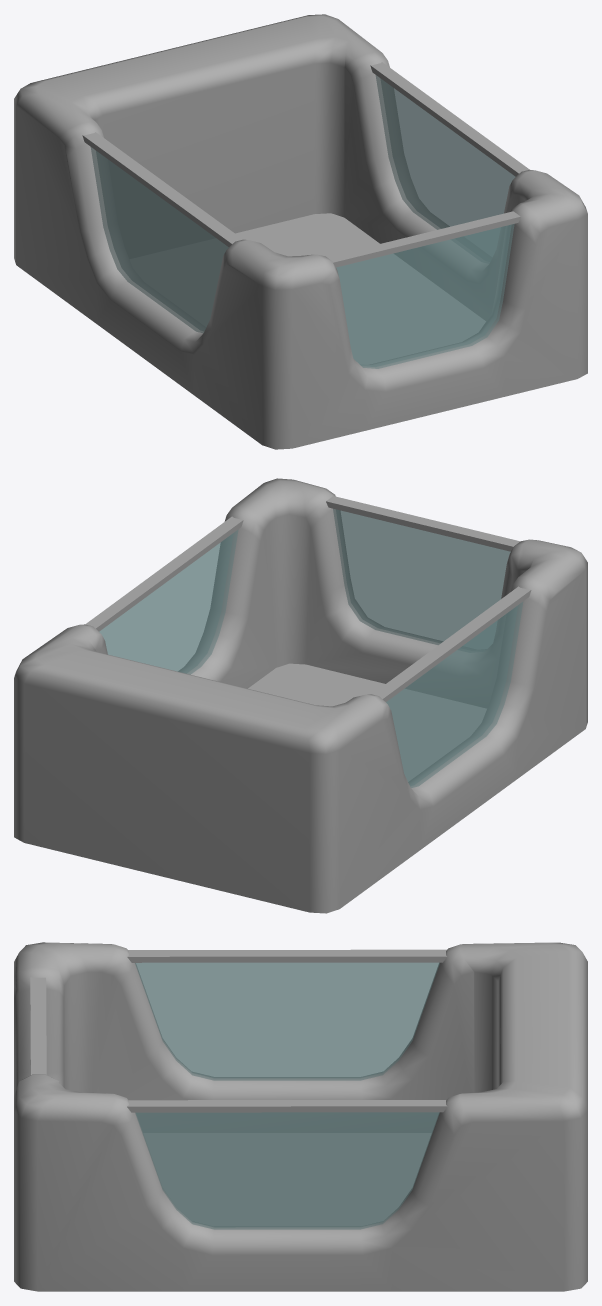
Rendered from BS_Bathtub_02.fbx.
The picture shows the model from 3 angles, top to bottom: view 1: azimuth 30°, elevation 25°; view 2: azimuth 150°, elevation 25°; view 3: azimuth 270°, elevation 25°; orthographic projection. The views are drawn at different scales.
Visible parts, largest first — view 1: BS_Bathtub_02; view 2: BS_Bathtub_02; view 3: BS_Bathtub_02.
Boxes of the visible parts, bbox=[...] form: BS_Bathtub_02: bbox=[14, 14, 587, 449]; BS_Bathtub_02: bbox=[14, 478, 587, 913]; BS_Bathtub_02: bbox=[14, 942, 587, 1291].
Size of the model in its own units: 203 by 105 by 292.
